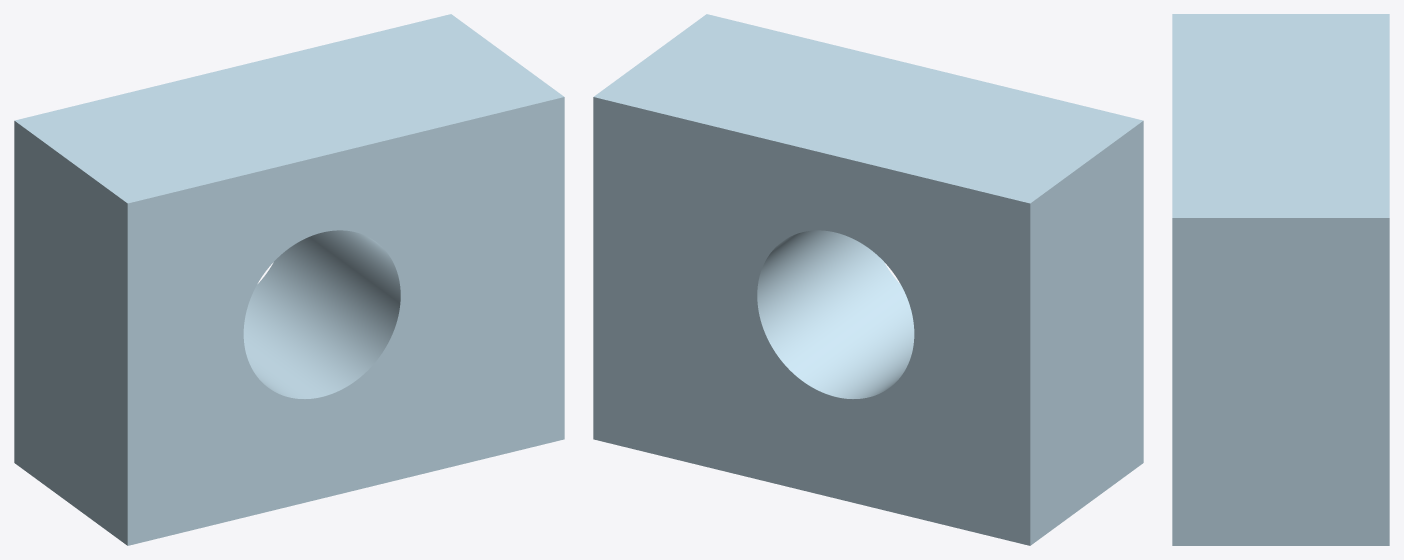
The model's file is cubo.gltf.
3 views of the same model, side by side, from view 1: azimuth 30°, elevation 25°; view 2: azimuth 150°, elevation 25°; view 3: azimuth 270°, elevation 25° (orthographic). The views are drawn at different scales.
Parts seen in each view (by area): view 1: Part 1; view 2: Part 1; view 3: Part 1.
Boxes of the visible parts, x1=… form: Part 1: x1=14, y1=14, x2=564, y2=545; Part 1: x1=593, y1=14, x2=1143, y2=545; Part 1: x1=1172, y1=14, x2=1389, y2=545.
Bounding box in the file's own units: 0.0556 × 0.0417 × 0.025.
